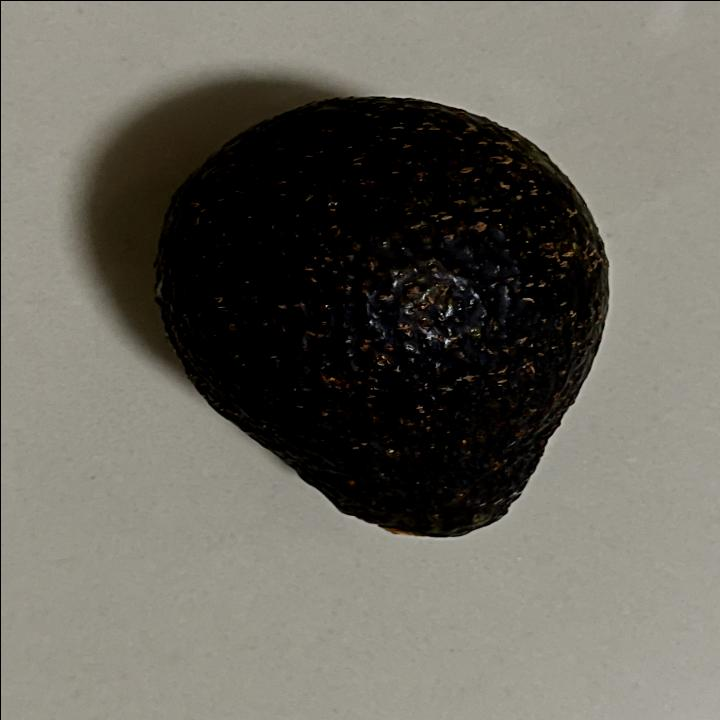Level2: (148, 91, 618, 547)
